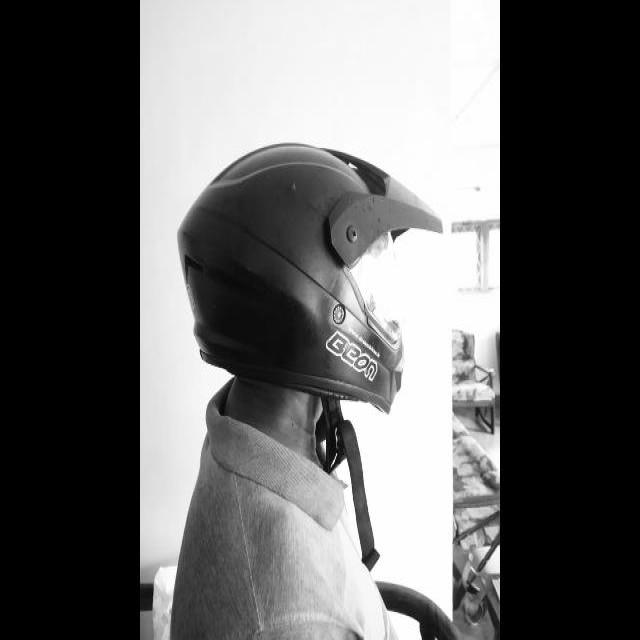5_casco: (176, 141, 442, 414)
